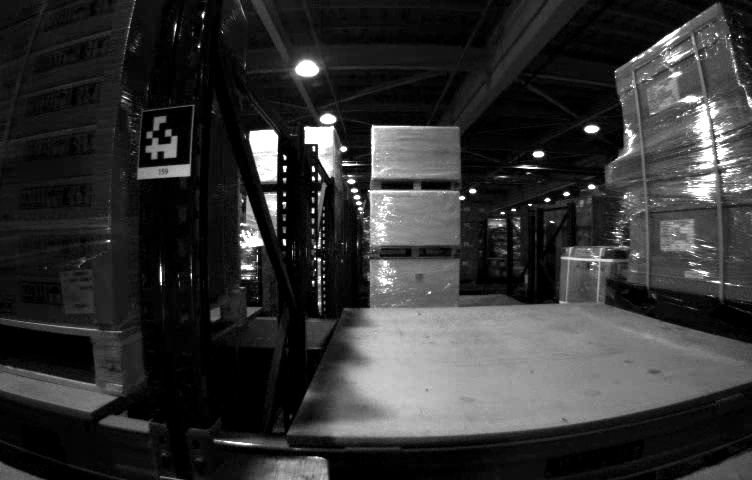True Barcode: (59, 265, 99, 315)
